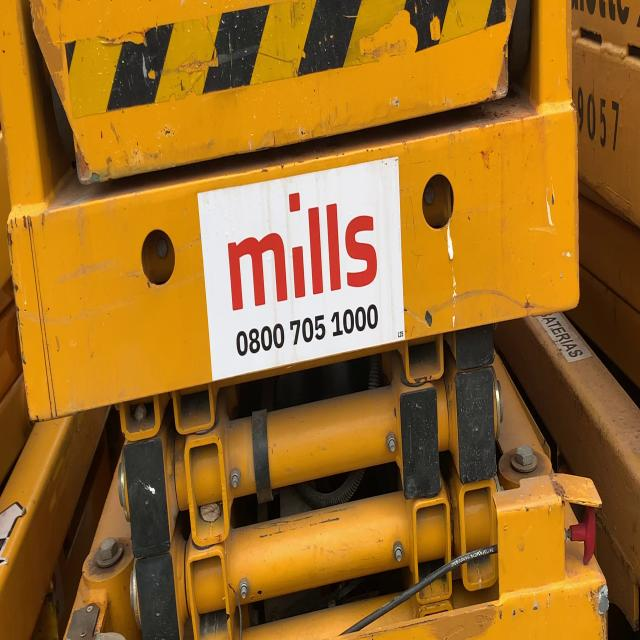Adesivos: (193, 153, 409, 388)
